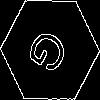G: (25, 25, 77, 83)
